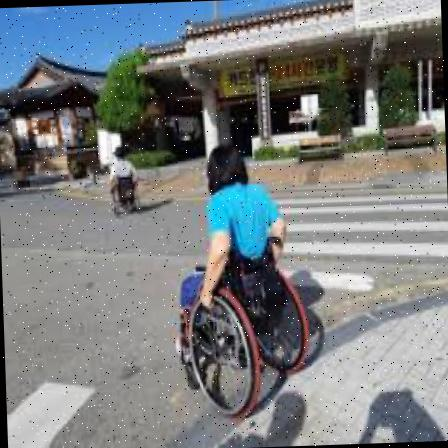wheel: (175, 145, 311, 418), (108, 142, 141, 218)
